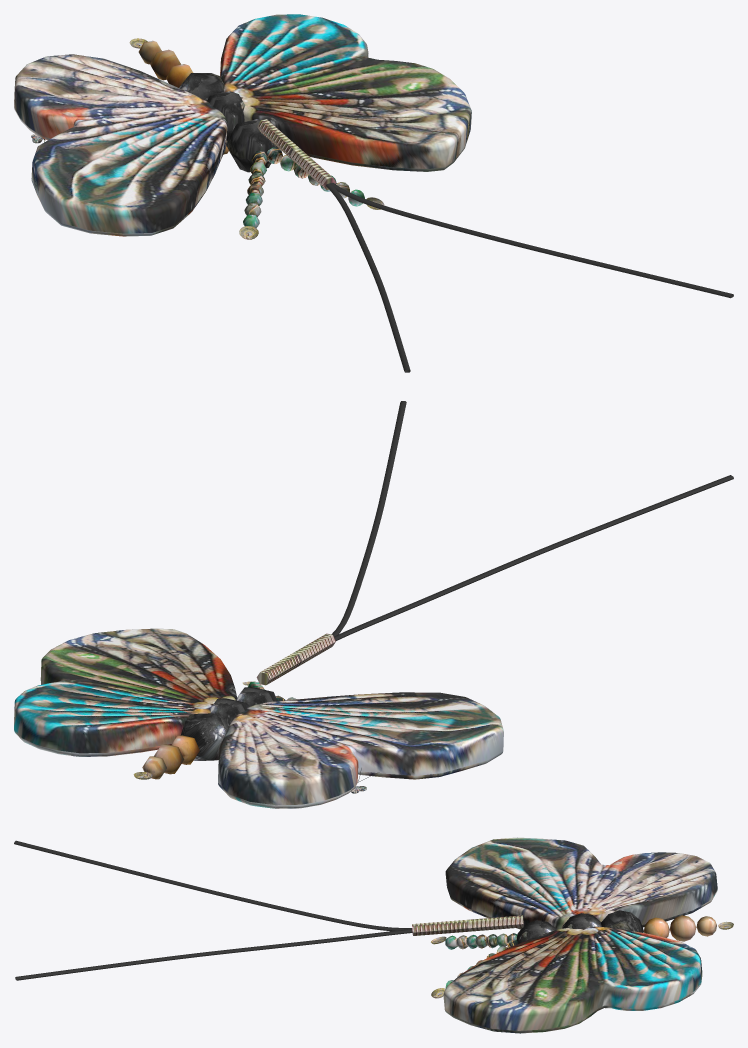
File: DurgaKupu2.obj
3 views of the same model, one above another, from view 1: azimuth 30°, elevation 25°; view 2: azimuth 150°, elevation 25°; view 3: azimuth 270°, elevation 25° (orthographic). The views are drawn at different scales.
Parts seen in each view (by area): view 1: polymsh, polymsh8, polymsh3, polymsh_detached, polymsh2, polymsh4, polymsh5; view 2: polymsh, polymsh8, polymsh3, polymsh2, polymsh_detached; view 3: polymsh, polymsh8, polymsh3, polymsh_detached, polymsh2, polymsh4.
Part boxes in pixels (x1,y1,x2,y2): polymsh: (14,14,471,236); polymsh8: (326,182,733,372); polymsh3: (179,73,277,172); polymsh_detached: (257,119,336,190); polymsh2: (138,40,193,87); polymsh4: (243,151,268,227); polymsh5: (266,147,364,206); polymsh: (14,628,503,808); polymsh8: (331,401,733,640); polymsh3: (180,687,277,760); polymsh2: (142,735,199,779); polymsh_detached: (256,633,335,685); polymsh: (443,837,717,1033); polymsh8: (14,840,412,980); polymsh3: (516,910,643,943); polymsh_detached: (412,915,523,935); polymsh2: (643,915,716,941); polymsh4: (445,933,517,949).
Bounding box in the file's own units: 104 × 18.5 × 184.
Materials: 22 (20 with a texture image).
